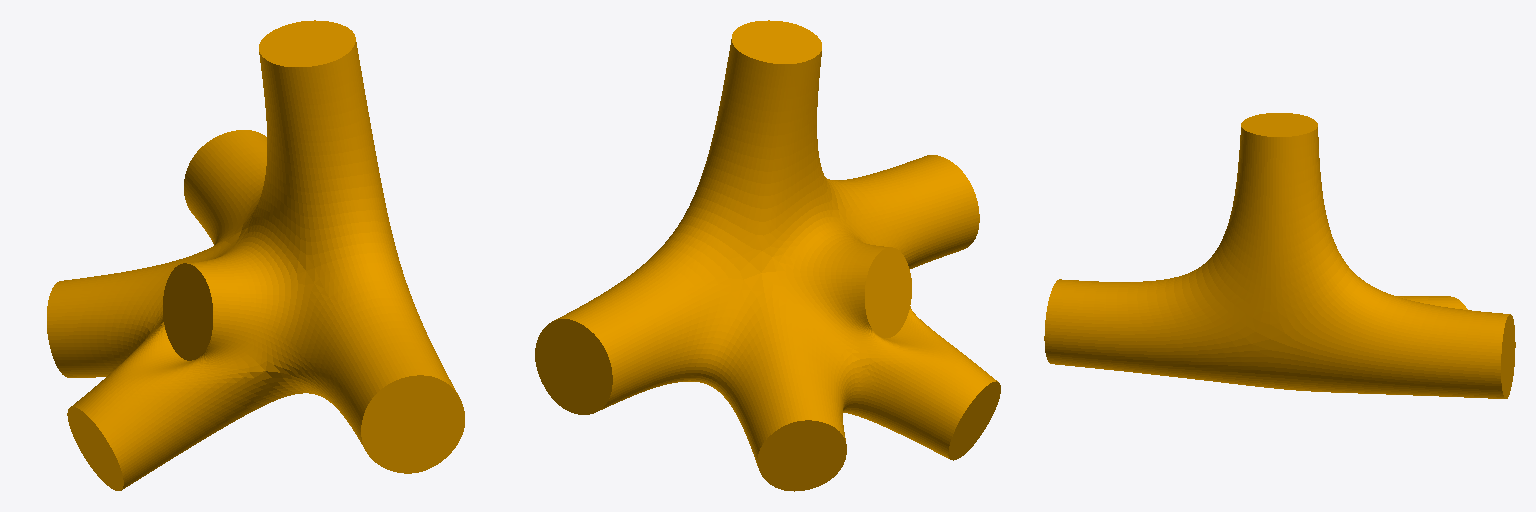
robot.urdf — object:
<robot name="object">
  <link name="object">
    <visual>
      <origin xyz="0 0 0"/>
      <geometry>
        <mesh filename="visual.obj" scale="1 1 1"/>
      </geometry>
    </visual>
    <collision>
      <origin xyz="0 0 0"/>
      <geometry>
        <mesh filename="visual.obj" scale="1 1 1"/>
      </geometry>
    </collision>
    <inertial>
      <mass value="0.05"/>
      <inertia ixx="2.1838753854483618e-05" iyy="1.3093577523790687e-05" izz="2.1079397124991917e-05" ixy="-1.1084747731408486e-06" ixz="-2.8190730953724007e-06" iyz="1.2498978578072042e-06"/>
    </inertial>
  </link>
</robot>

--- What the picture shows (computed from the rendered views, not written in the file) ---
The picture shows the robot from 3 angles, left to right: view 1: azimuth 30°, elevation 25°; view 2: azimuth 150°, elevation 25°; view 3: azimuth 270°, elevation 25°; orthographic projection.
Robot: object — 1 links, 0 joints (none); root link object; default pose: every joint at zero.
Visible links, largest first — view 1: object; view 2: object; view 3: object.
Boxes of the visible links, bbox=[...] form: object: bbox=[47, 20, 464, 490]; object: bbox=[535, 20, 1000, 491]; object: bbox=[1044, 113, 1515, 398].
Size in the robot's own frame: 0.0579 by 0.0871 by 0.0644 metres.
1 mesh visuals loaded from 1 distinct referenced files (1 OBJ).
